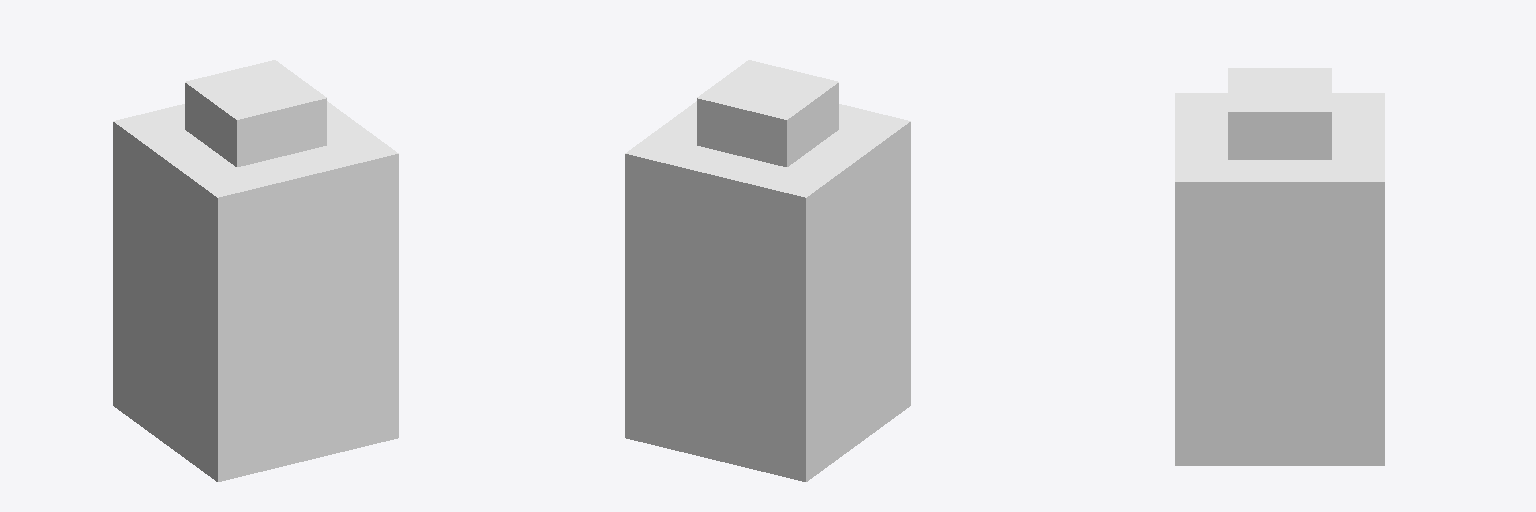
The model's file is proteinShake.obj.
3 renders of one model, left to right at view 1: azimuth 30°, elevation 25°; view 2: azimuth 150°, elevation 25°; view 3: azimuth 270°, elevation 25°, orthographic.
Parts seen in each view (by area): view 1: object 1; view 2: object 1; view 3: object 1.
Part boxes in pixels (left/top/right/bottom): object 1: left=113, top=60, right=398, bottom=481; object 1: left=625, top=60, right=910, bottom=481; object 1: left=1175, top=68, right=1384, bottom=465.
Bounding box in the file's own units: 0.4 × 0.7 × 0.4.